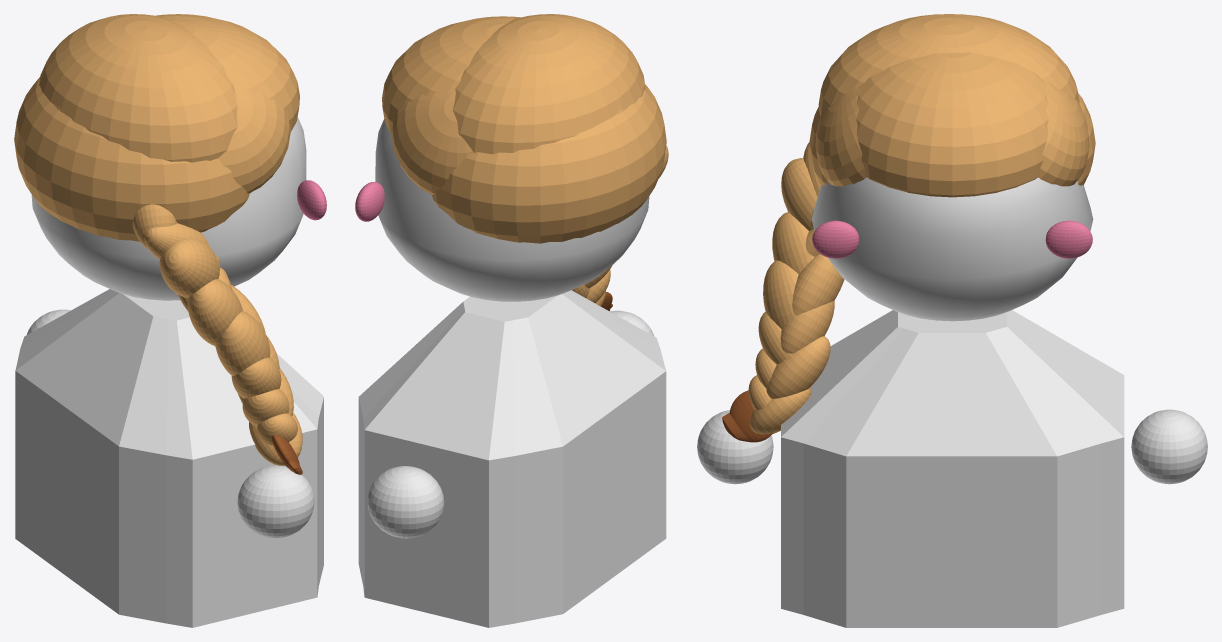
Rendered from Amanda.fbx.
3 renders of one model, left to right at view 1: azimuth 30°, elevation 25°; view 2: azimuth 150°, elevation 25°; view 3: azimuth 270°, elevation 25°, orthographic. The views are drawn at different scales.
Parts seen in each view (by area): view 1: Cube, Sphere.055, Sphere.056, Sphere, Sphere.057, Sphere.058, Sphere.001, Sphere.040, Sphere.045, Sphere.046, Sphere.049, Sphere.051 (+6 smaller); view 2: Cube, Sphere.056, Sphere.055, Sphere, Sphere.057, Sphere.058, Sphere.001, Sphere.004; view 3: Cube, Sphere, Sphere.057, Sphere.055, Sphere.001, Sphere.058, Sphere.004, Sphere.050, Sphere.047, Sphere.040, Sphere.046, Sphere.045 (+5 smaller).
Boxes of the visible parts, x1,y1,x2,y2 form: Cube: (15,289,323,627); Sphere.055: (39,14,237,162); Sphere.056: (14,77,249,241); Sphere: (31,117,306,300); Sphere.057: (54,14,299,132); Sphere.058: (218,88,290,193); Sphere.001: (27,309,314,538); Sphere.040: (159,239,219,297); Sphere.045: (187,279,242,345); Sphere.046: (215,311,270,375); Sphere.049: (231,357,281,398); Sphere.051: (242,389,289,426); Cube: (358,290,666,627); Sphere.056: (432,84,666,243); Sphere.055: (452,14,645,154); Sphere: (375,119,649,301); Sphere.057: (382,16,622,133); Sphere.058: (391,89,473,194); Sphere.001: (367,310,653,538); Sphere.004: (355,182,384,221); Cube: (781,310,1124,627); Sphere: (811,177,1093,321); Sphere.057: (856,52,1048,197); Sphere.055: (818,14,1079,115); Sphere.001: (697,409,1207,484); Sphere.058: (815,80,1089,186); Sphere.004: (812,220,1092,258); Sphere.050: (766,336,830,398); Sphere.047: (792,254,844,315); Sphere.040: (781,158,817,230); Sphere.046: (763,260,798,328); Sphere.045: (772,212,813,274).
Size of the model in its own units: 210 by 415 by 356.
